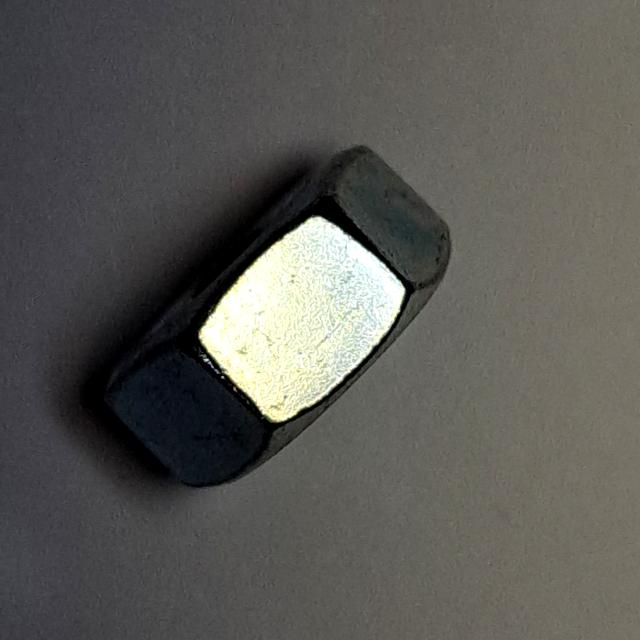Side_Excellent: (76, 126, 463, 505)
